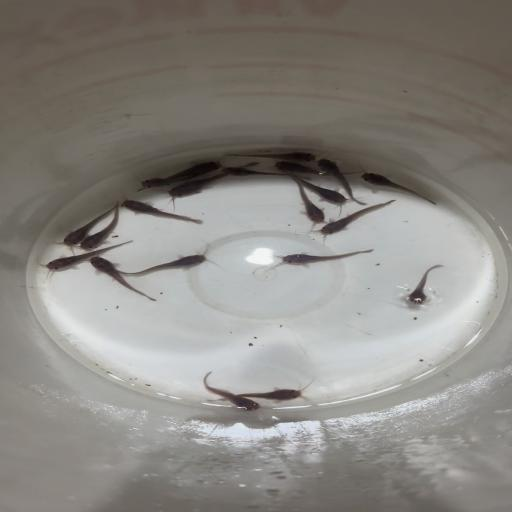lele: (166, 162, 260, 200), (88, 254, 158, 302), (129, 160, 222, 195), (317, 199, 398, 239), (43, 240, 136, 274), (358, 170, 440, 206), (197, 371, 261, 412), (54, 205, 116, 246), (316, 156, 366, 205), (79, 199, 122, 251), (119, 199, 203, 225), (121, 252, 211, 276), (195, 385, 311, 403), (268, 248, 375, 267), (290, 175, 326, 226), (403, 264, 447, 305), (292, 176, 349, 204), (129, 172, 215, 190), (272, 160, 362, 175), (219, 166, 301, 179), (222, 151, 318, 162)
